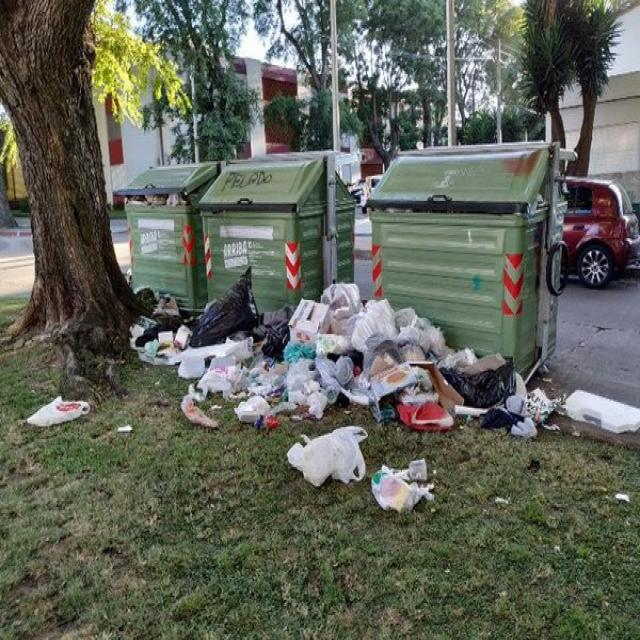garbage: (120, 270, 560, 440), (285, 425, 372, 499), (560, 378, 640, 452), (370, 452, 440, 520), (21, 386, 96, 433), (122, 188, 191, 212)
